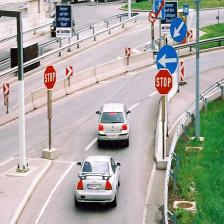Stop-sign: (153, 68, 175, 99), (41, 63, 58, 90)
